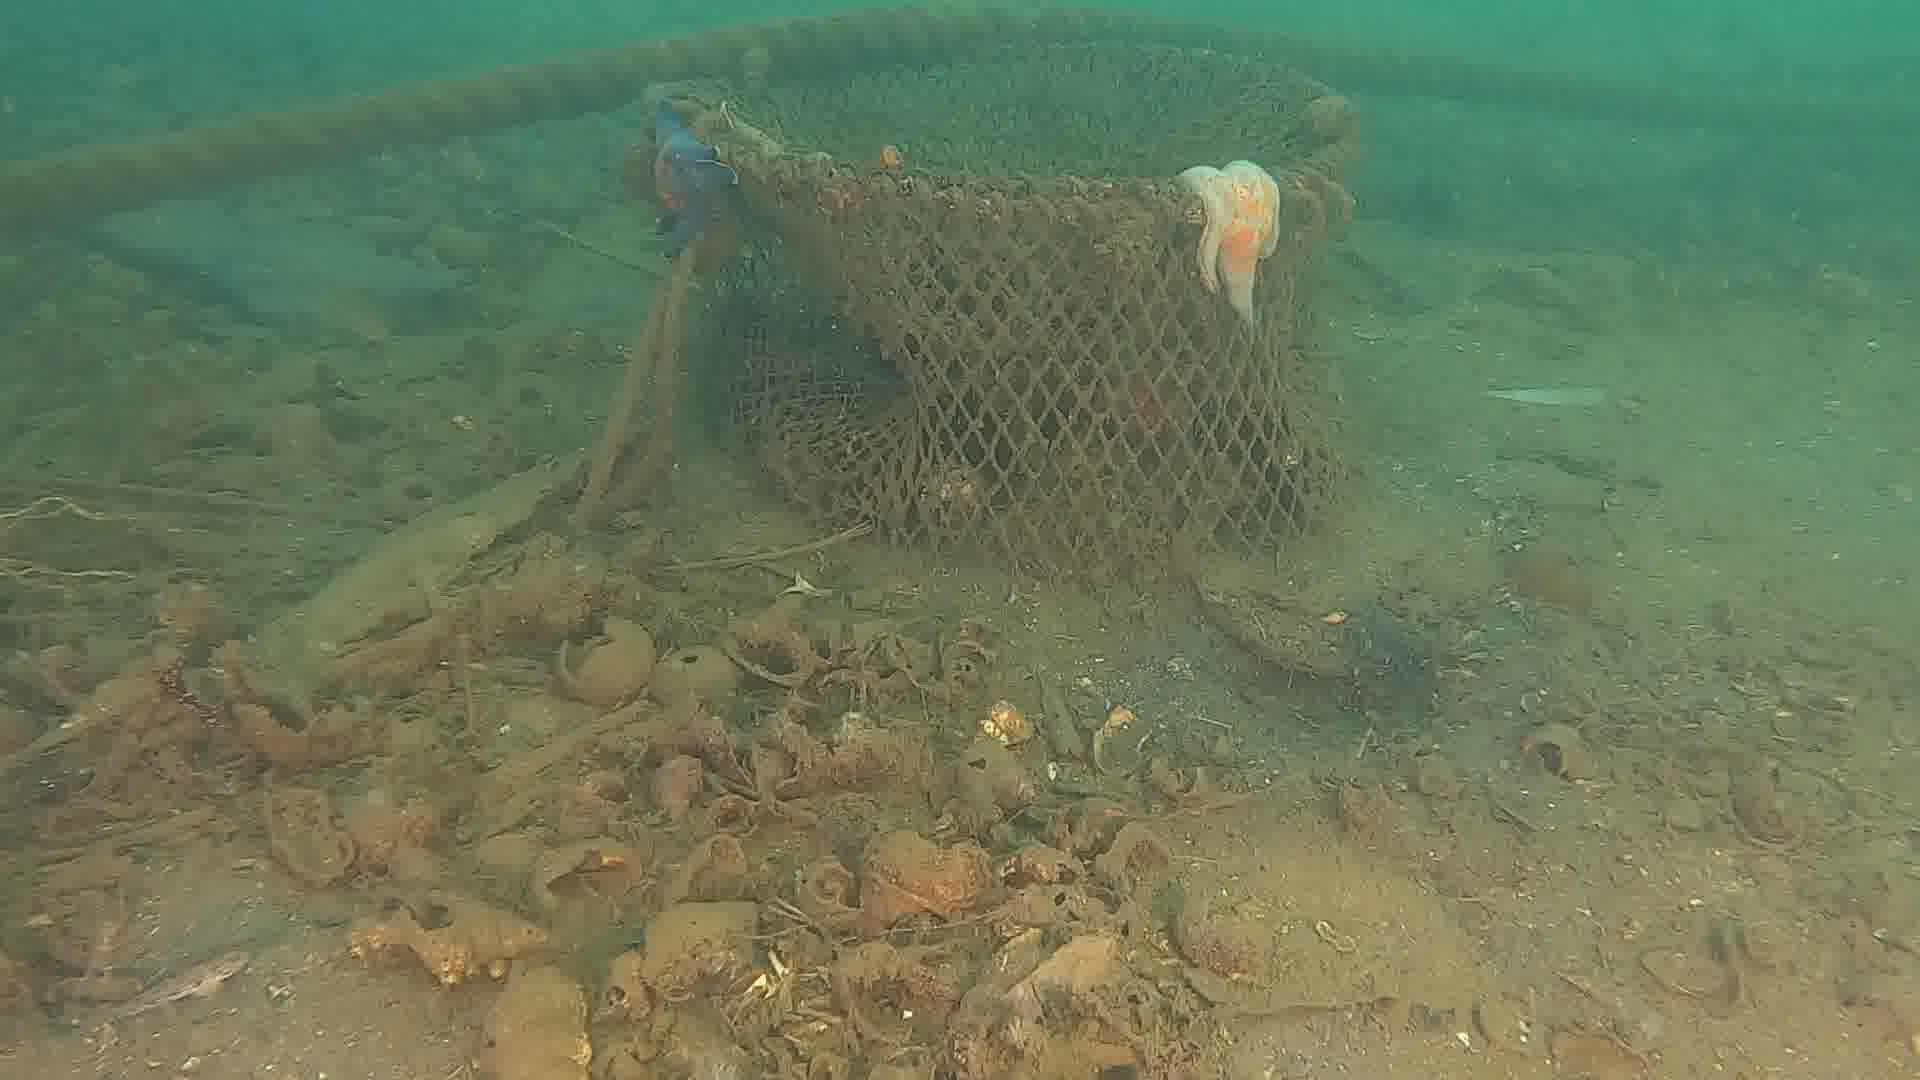bundle of ropes: (558, 237, 705, 535)
circular fish trap: (703, 30, 1356, 575)
rope: (0, 0, 1278, 243)
